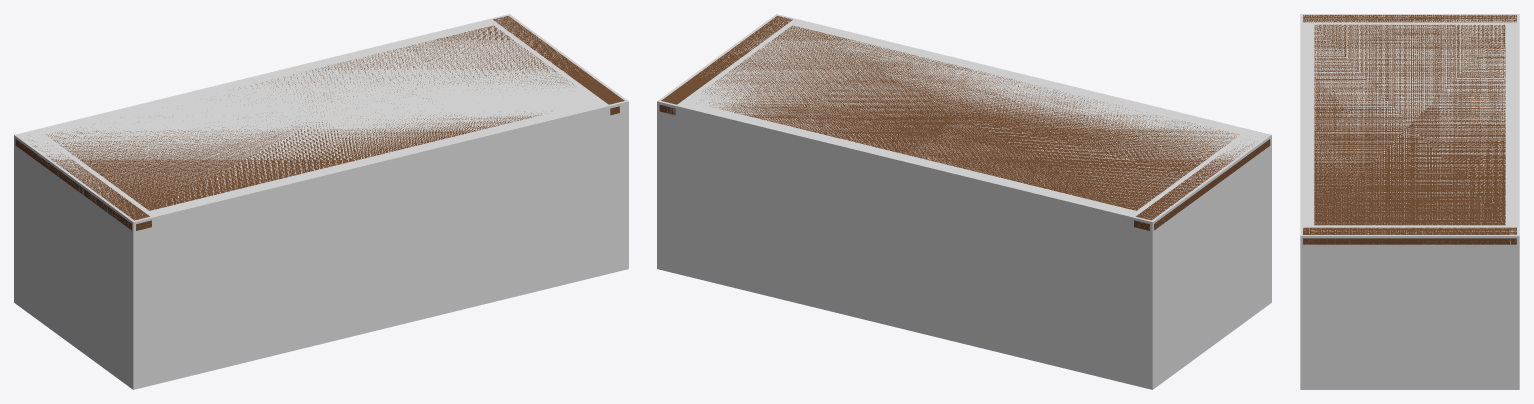
The model's file is dining_table.glb.
3 views of the same model, side by side, from view 1: azimuth 30°, elevation 25°; view 2: azimuth 150°, elevation 25°; view 3: azimuth 270°, elevation 25° (orthographic). The views are drawn at different scales.
Parts seen in each view (by area): view 1: dining_table_001_top_panel_COL, dining_table_001_top_panel, dining_table_002_breadboard_-1, dining_table_004_breadboard_1; view 2: dining_table_001_top_panel_COL, dining_table_001_top_panel, dining_table_002_breadboard_-1, dining_table_004_breadboard_1; view 3: dining_table_001_top_panel_COL, dining_table_001_top_panel, dining_table_004_breadboard_1, dining_table_002_breadboard_-1.
Boxes of the visible parts, <box> form: dining_table_001_top_panel_COL: <box>14,14,628,389</box>; dining_table_001_top_panel: <box>46,25,573,210</box>; dining_table_002_breadboard_-1: <box>15,139,151,230</box>; dining_table_004_breadboard_1: <box>493,16,624,115</box>; dining_table_001_top_panel_COL: <box>657,14,1271,389</box>; dining_table_001_top_panel: <box>702,25,1239,210</box>; dining_table_002_breadboard_-1: <box>1134,139,1270,230</box>; dining_table_004_breadboard_1: <box>659,15,792,115</box>; dining_table_001_top_panel_COL: <box>1300,14,1519,389</box>; dining_table_001_top_panel: <box>1314,24,1505,225</box>; dining_table_004_breadboard_1: <box>1303,227,1516,244</box>; dining_table_002_breadboard_-1: <box>1303,15,1516,22</box>.
Bounding box in the file's own units: 2.35 × 0.76 × 0.98.
